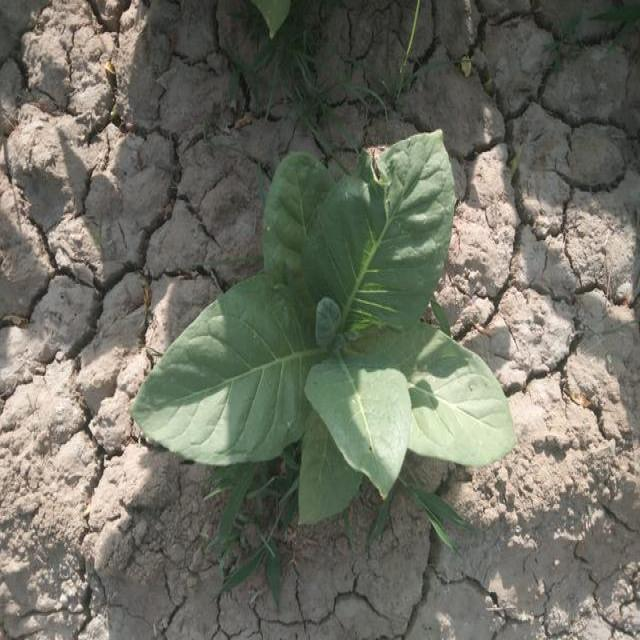crop: (132, 130, 512, 516)
